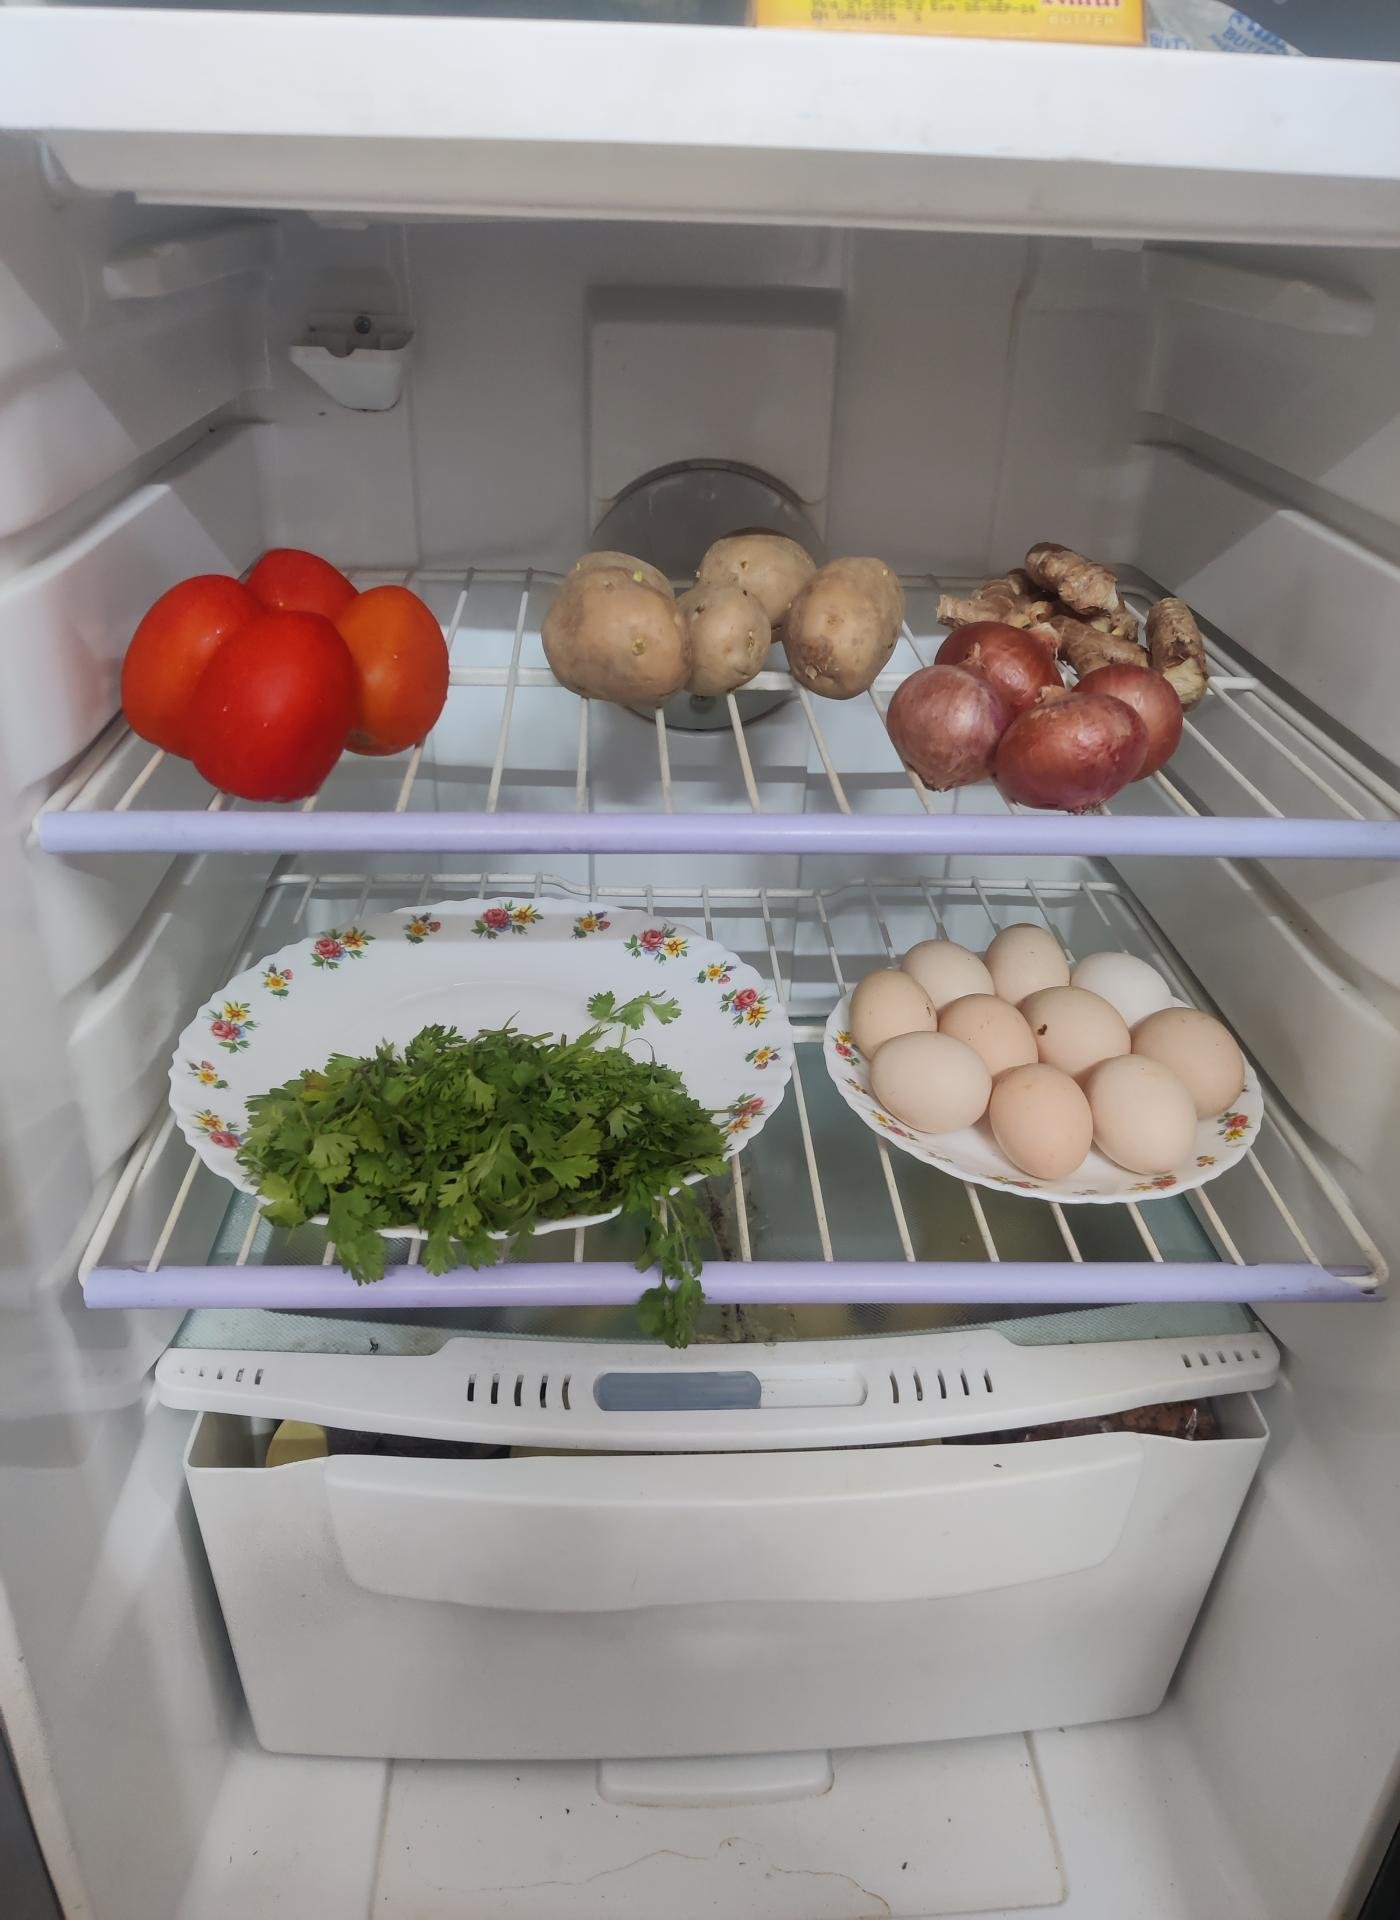coriander: (236, 1021, 732, 1252)
egg: (860, 932, 1257, 1203)
ginger: (932, 546, 1214, 678)
onion: (889, 616, 1181, 823)
potato: (543, 529, 908, 717)
tomato: (122, 547, 453, 803)
